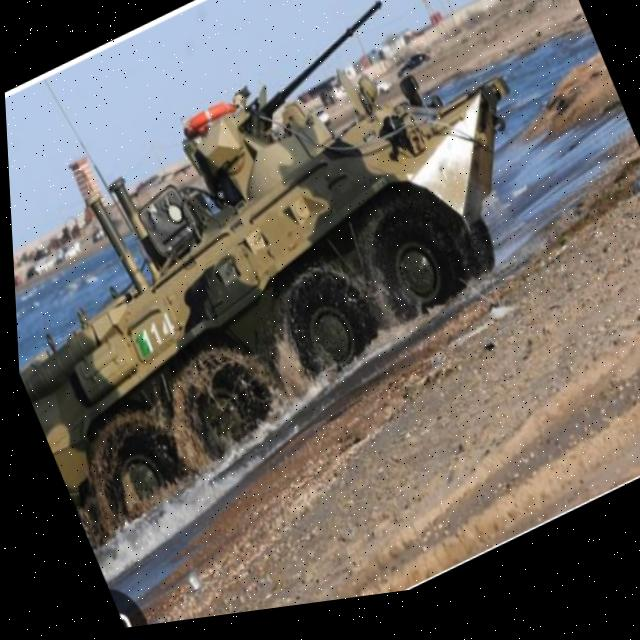MIL_APC: (2, 0, 596, 563)
